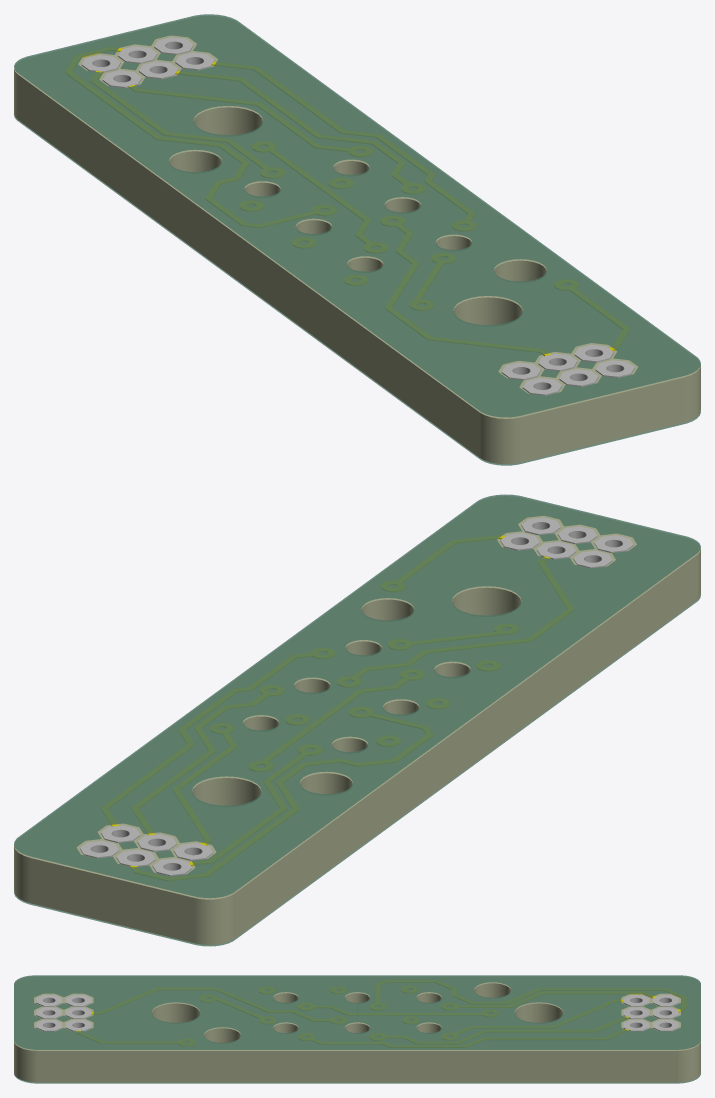
File: Braille Cell PCB.glb
3 renders of one model, top to bottom at view 1: azimuth 30°, elevation 25°; view 2: azimuth 150°, elevation 25°; view 3: azimuth 270°, elevation 25°, orthographic. The views are drawn at different scales.
Parts seen in each view (by area): view 1: =>[0:1:1:7], =>[0:1:1:5], =>[0:1:1:2], =>[0:1:1:3], =>[0:1:1:6]; view 2: =>[0:1:1:7], =>[0:1:1:5], =>[0:1:1:2], =>[0:1:1:3], =>[0:1:1:6]; view 3: =>[0:1:1:7], =>[0:1:1:5], =>[0:1:1:2], =>[0:1:1:3], =>[0:1:1:6].
Part boxes in pixels (left/top/right/bottom): =>[0:1:1:7]: left=14, top=16, right=700, bottom=464; =>[0:1:1:5]: left=14, top=14, right=700, bottom=417; =>[0:1:1:2]: left=65, top=47, right=629, bottom=356; =>[0:1:1:3]: left=81, top=37, right=634, bottom=395; =>[0:1:1:6]: left=14, top=115, right=700, bottom=465; =>[0:1:1:7]: left=14, top=496, right=700, bottom=944; =>[0:1:1:5]: left=14, top=494, right=700, bottom=898; =>[0:1:1:2]: left=101, top=535, right=573, bottom=880; =>[0:1:1:3]: left=80, top=517, right=633, bottom=876; =>[0:1:1:6]: left=14, top=595, right=700, bottom=946; =>[0:1:1:7]: left=14, top=977, right=700, bottom=1082; =>[0:1:1:5]: left=14, top=975, right=700, bottom=1049; =>[0:1:1:2]: left=76, top=980, right=685, bottom=1047; =>[0:1:1:3]: left=36, top=995, right=678, bottom=1031; =>[0:1:1:6]: left=14, top=1073, right=700, bottom=1083.
Bounding box in the file's own units: 0.00762 × 0.00161 × 0.0297.
